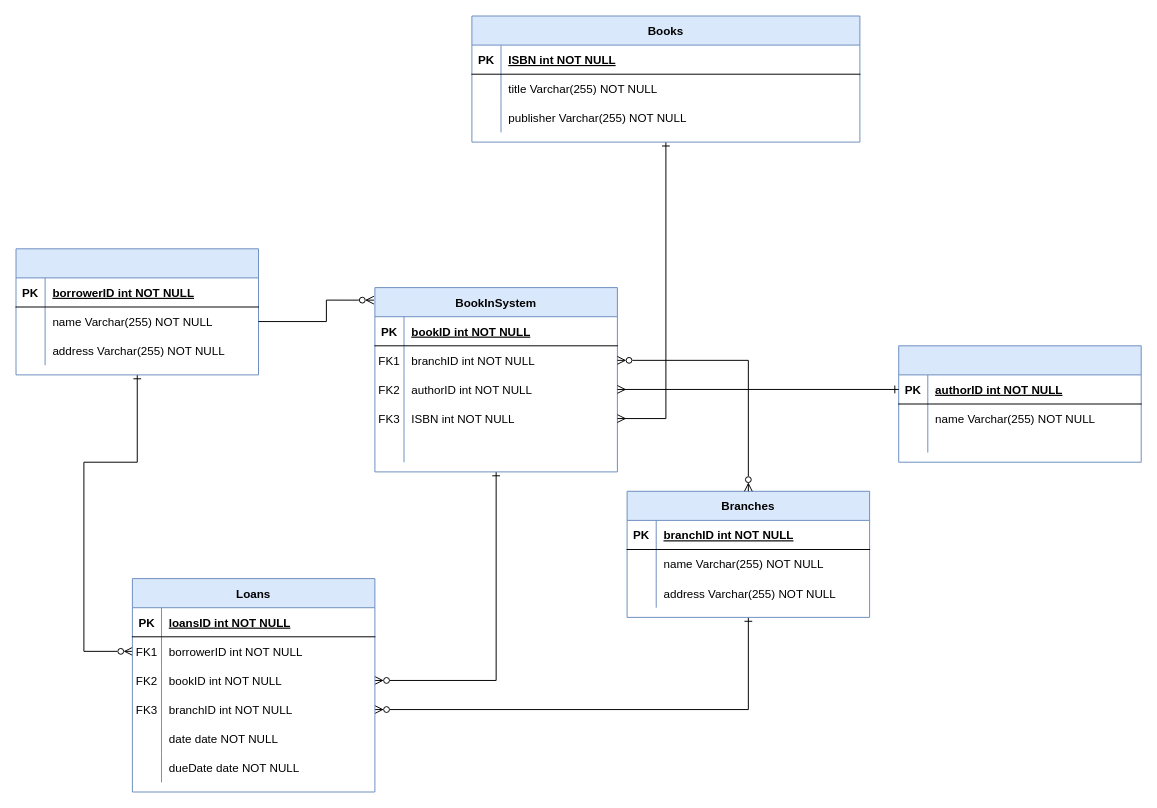
The diagram is 1157 pixels wide and 808 high, and some of its shapes have lost their labels. Here are the shapes that lost their labels. From the top down, the box of each, then its label:
(15, 248, 259, 375): Borrowers
(898, 345, 1141, 462): Authors
